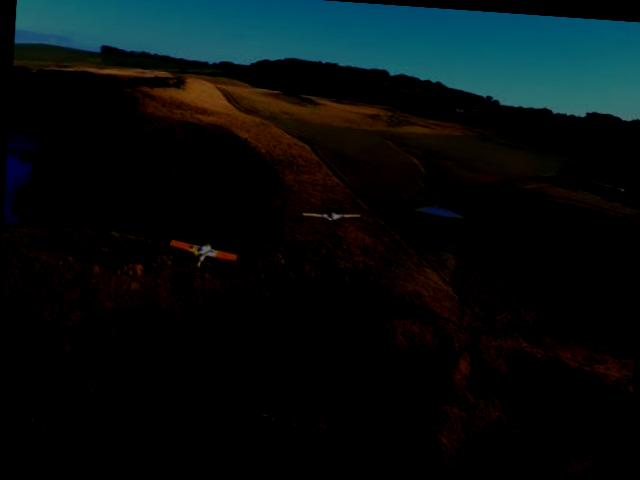uav: (161, 235, 247, 267), (301, 206, 361, 224)
